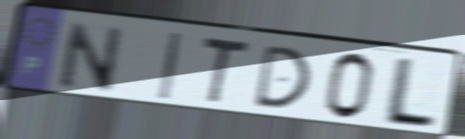0: (323, 51, 377, 120)
D: (250, 43, 314, 110)
I: (156, 30, 185, 102)
L: (377, 55, 441, 131)
N: (56, 19, 126, 94)
T: (198, 33, 252, 108)
